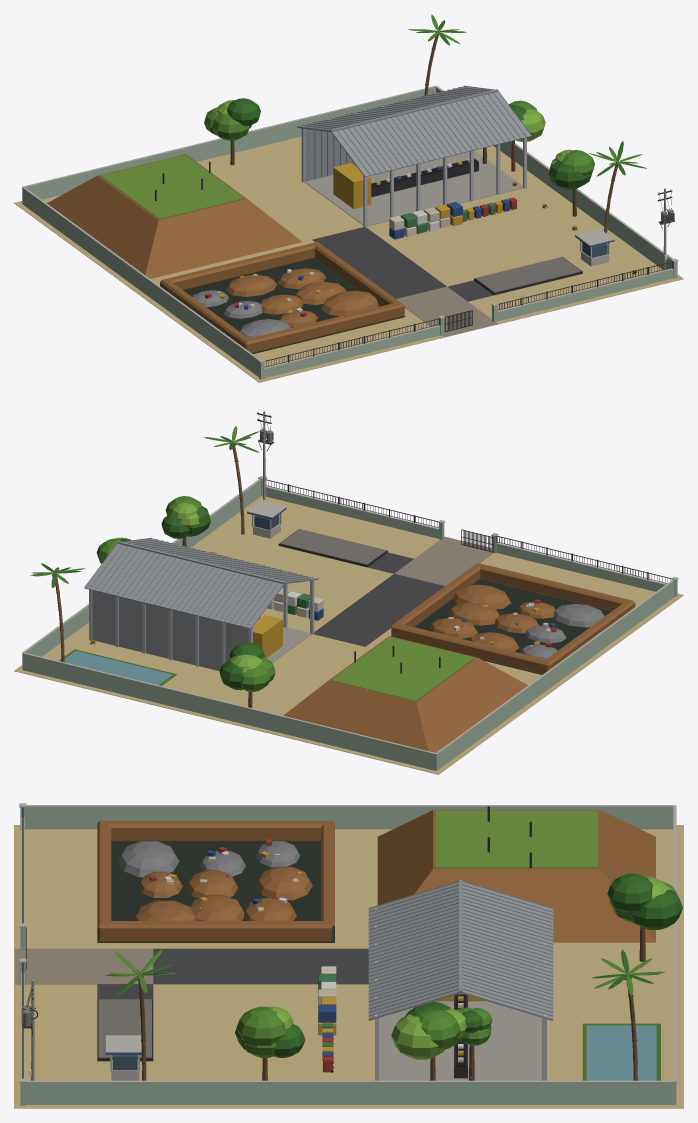
The model's file is waste.glb.
3 renders of one model, top to bottom at view 1: azimuth 30°, elevation 25°; view 2: azimuth 150°, elevation 25°; view 3: azimuth 270°, elevation 25°, orthographic. The views are drawn at different scales.
Parts seen in each view (by area): view 1: body; view 2: body; view 3: body.
Boxes of the visible parts, box(x1,y1,x2,y2) form: body: box(14, 14, 683, 382); body: box(14, 411, 683, 774); body: box(14, 803, 683, 1108).
Bounding box in the file's own units: 48.75 × 10.81 × 47.9.
